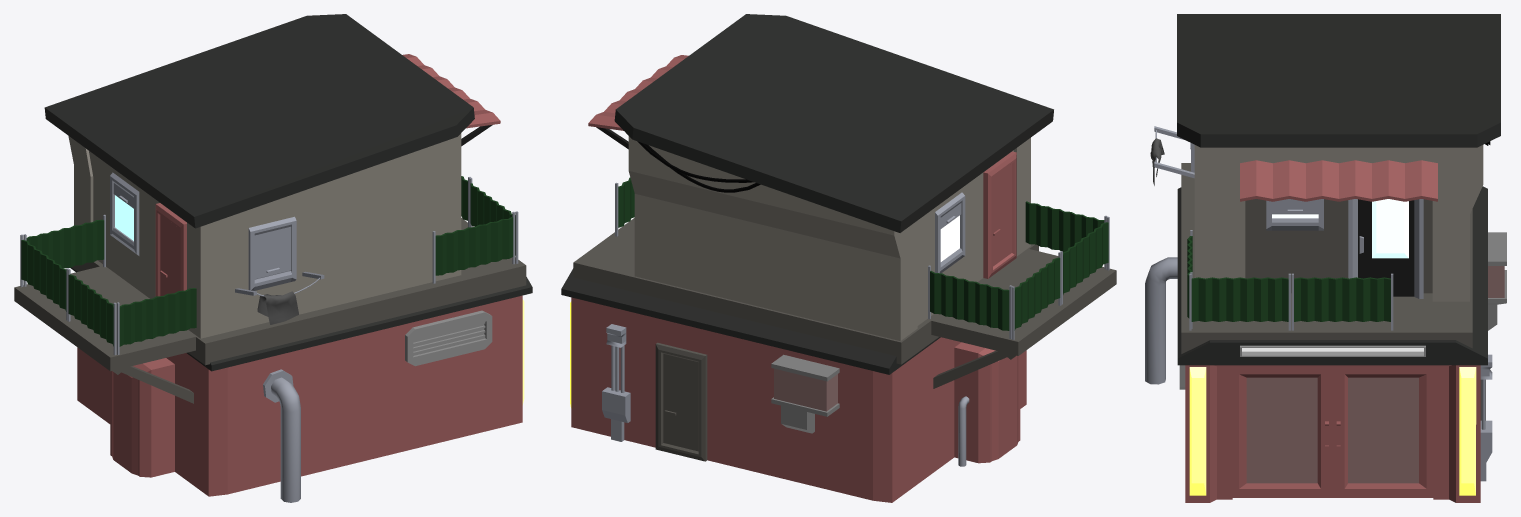
File: Garage5.fbx
3 views of the same model, side by side, from view 1: azimuth 30°, elevation 25°; view 2: azimuth 150°, elevation 25°; view 3: azimuth 270°, elevation 25° (orthographic). The views are drawn at different scales.
Parts seen in each view (by area): view 1: pristroika2, garage 2, pristroikabalcon2, Electroblock, PristroikaZabor2.002, Vent3, PristroikaZabor2.006, pristroikaWindow5, Pipe1, pristroikaDoor1.002, PristroikaZabor2.005, PristroikaZabor2.004 (+5 smaller); view 2: pristroika2, garage 2, pristroikabalcon2, Electroblock, pristroikaDoor1.003, vent4.001, pristroikaDoor1.002, PristroikaZabor2.005, PristroikaZabor2.006, PristroikaZabor2.003, Provodka2, PristroikaZabor2.004 (+4 smaller); view 3: pristroika2, garage 2, garage2door, garage2door.001, pristroikaKrisha1, pristroikaDoor2, PristroikaZabor2.001, PristroikaZabor2, Pipe1, LongLamp2, LongLamp2.001, longLamp1 (+4 smaller).
Part boxes in pixels (left/top/right/bottom): pristroika2: left=44, top=14, right=526, bottom=365; garage 2: left=70, top=267, right=532, bottom=496; pristroikabalcon2: left=14, top=266, right=195, bottom=403; Electroblock: left=110, top=358, right=174, bottom=477; PristroikaZabor2.002: left=432, top=211, right=514, bottom=283; Vent3: left=405, top=310, right=492, bottom=366; PristroikaZabor2.006: left=117, top=288, right=196, bottom=354; pristroikaWindow5: left=248, top=216, right=296, bottom=290; Pipe1: left=263, top=369, right=300, bottom=502; pristroikaDoor1.002: left=155, top=203, right=186, bottom=296; PristroikaZabor2.005: left=23, top=214, right=105, bottom=286; PristroikaZabor2.004: left=67, top=269, right=116, bottom=355; pristroika2: left=573, top=14, right=1053, bottom=364; garage 2: left=561, top=268, right=1026, bottom=502; pristroikabalcon2: left=931, top=249, right=1116, bottom=388; Electroblock: left=954, top=342, right=1020, bottom=466; pristroikaDoor1.003: left=655, top=342, right=707, bottom=461; vent4.001: left=771, top=354, right=839, bottom=433; pristroikaDoor1.002: left=983, top=151, right=1016, bottom=278; PristroikaZabor2.005: left=928, top=265, right=1012, bottom=338; PristroikaZabor2.006: left=1025, top=201, right=1107, bottom=269; PristroikaZabor2.003: left=1011, top=252, right=1061, bottom=339; Provodka2: left=602, top=324, right=630, bottom=441; PristroikaZabor2.004: left=1060, top=216, right=1109, bottom=304; pristroika2: left=1177, top=14, right=1500, bottom=353; garage 2: left=1177, top=186, right=1487, bottom=502; garage2door: left=1232, top=370, right=1332, bottom=497; garage2door.001: left=1333, top=370, right=1433, bottom=497; pristroikaKrisha1: left=1240, top=160, right=1437, bottom=201; pristroikaDoor2: left=1348, top=199, right=1423, bottom=298; PristroikaZabor2.001: left=1291, top=273, right=1393, bottom=330; PristroikaZabor2: left=1189, top=273, right=1290, bottom=330; Pipe1: left=1145, top=257, right=1177, bottom=384; LongLamp2: left=1189, top=367, right=1206, bottom=495; LongLamp2.001: left=1459, top=367, right=1476, bottom=495; longLamp1: left=1240, top=345, right=1425, bottom=356.
Bounding box in the file's own units: 779 × 583 × 541.
